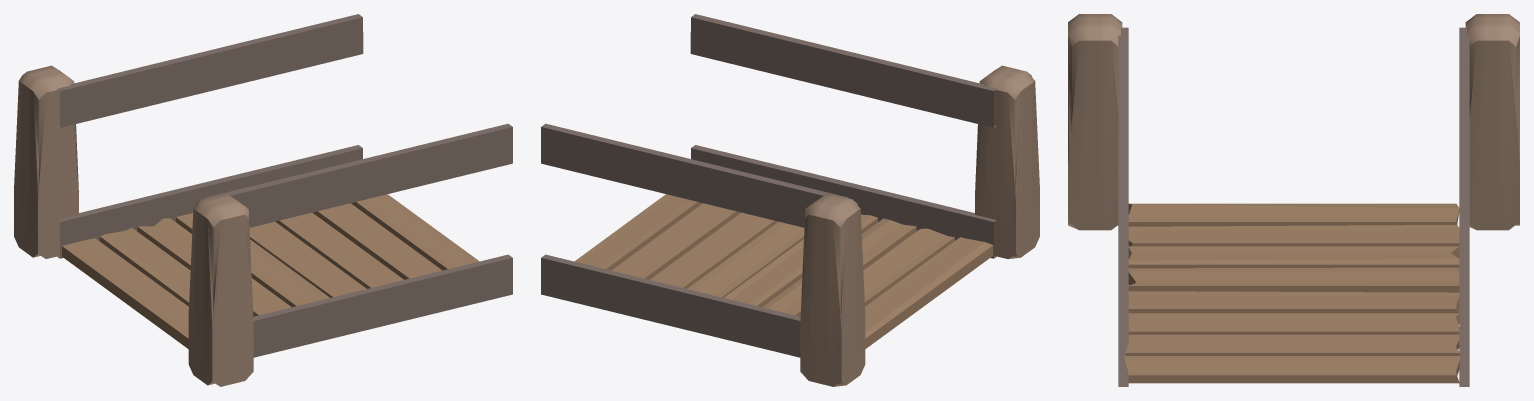
File: bridge 4.fbx
The picture shows the model from 3 angles, left to right: view 1: azimuth 30°, elevation 25°; view 2: azimuth 150°, elevation 25°; view 3: azimuth 270°, elevation 25°; orthographic projection. The views are drawn at different scales.
Visible parts, largest first — view 1: node_id104, node_id102, node_id106; view 2: node_id104, node_id102, node_id106; view 3: node_id102, node_id106, node_id104.
Boxes of the visible parts, box(x1,y1,x2,y2) form: node_id104: box(57, 14, 512, 357); node_id102: box(62, 194, 479, 348); node_id106: box(14, 65, 253, 386); node_id104: box(541, 14, 996, 357); node_id102: box(574, 194, 993, 348); node_id106: box(800, 65, 1039, 386); node_id102: box(1124, 203, 1460, 383); node_id106: box(1068, 14, 1519, 230); node_id104: box(1118, 27, 1469, 386).
Bounding box in the file's own units: 0.0251 × 0.0129 × 0.0267.
